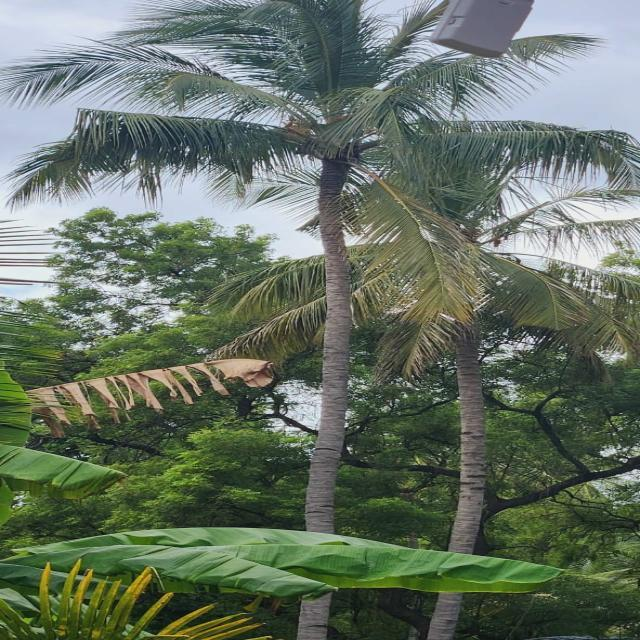Coconut-tree: (156, 5, 418, 640), (366, 127, 598, 640)
